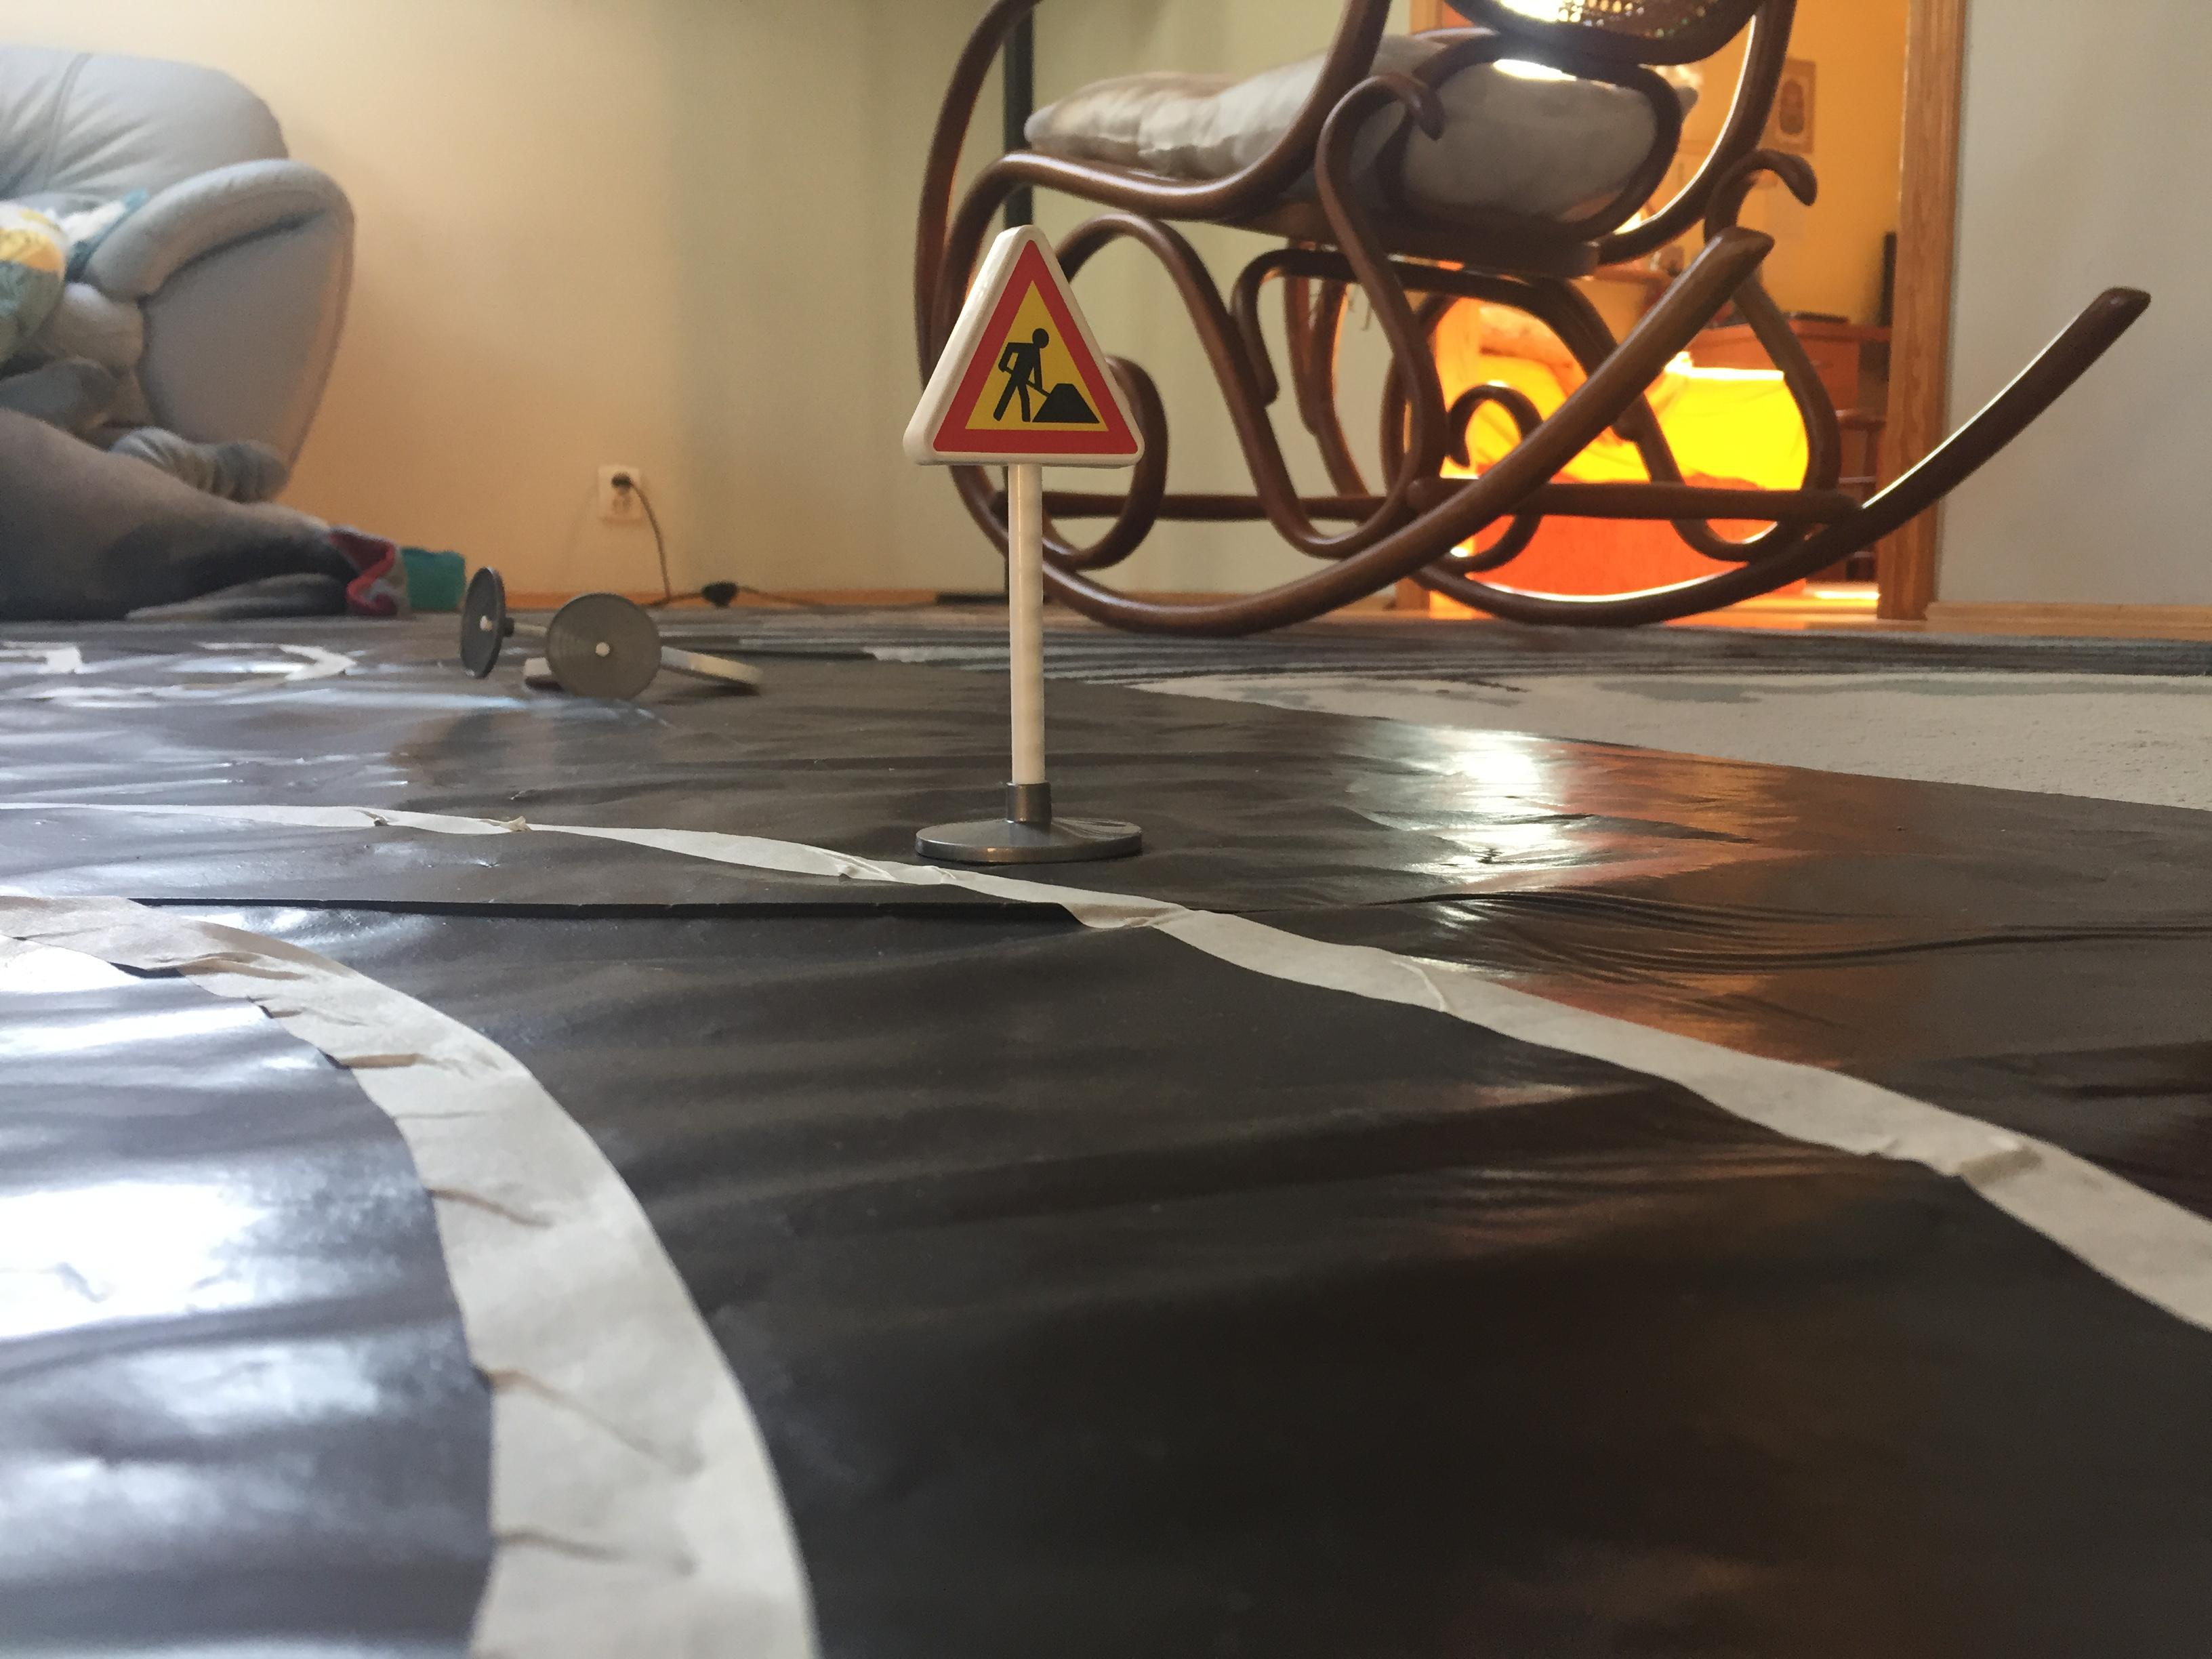work: (887, 221, 1167, 484)
